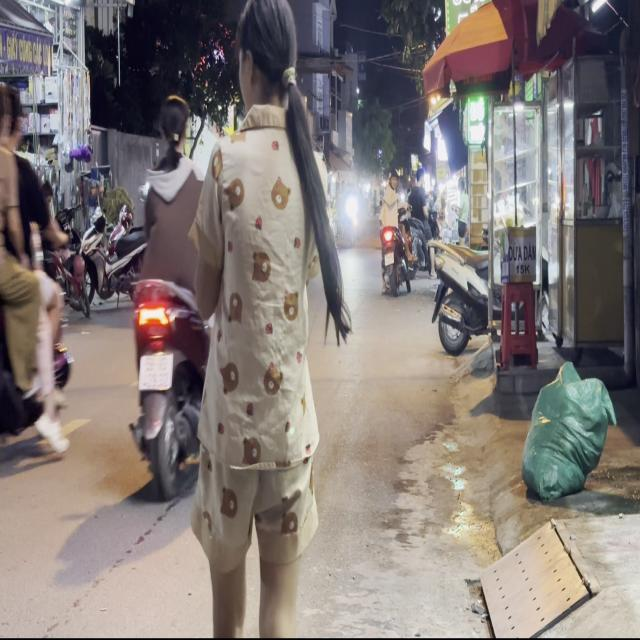licenseplate: (123, 90, 215, 500), (0, 73, 74, 482)
motorcyclist: (154, 93, 188, 159), (0, 80, 24, 149)
nohelmet: (138, 352, 172, 388)
